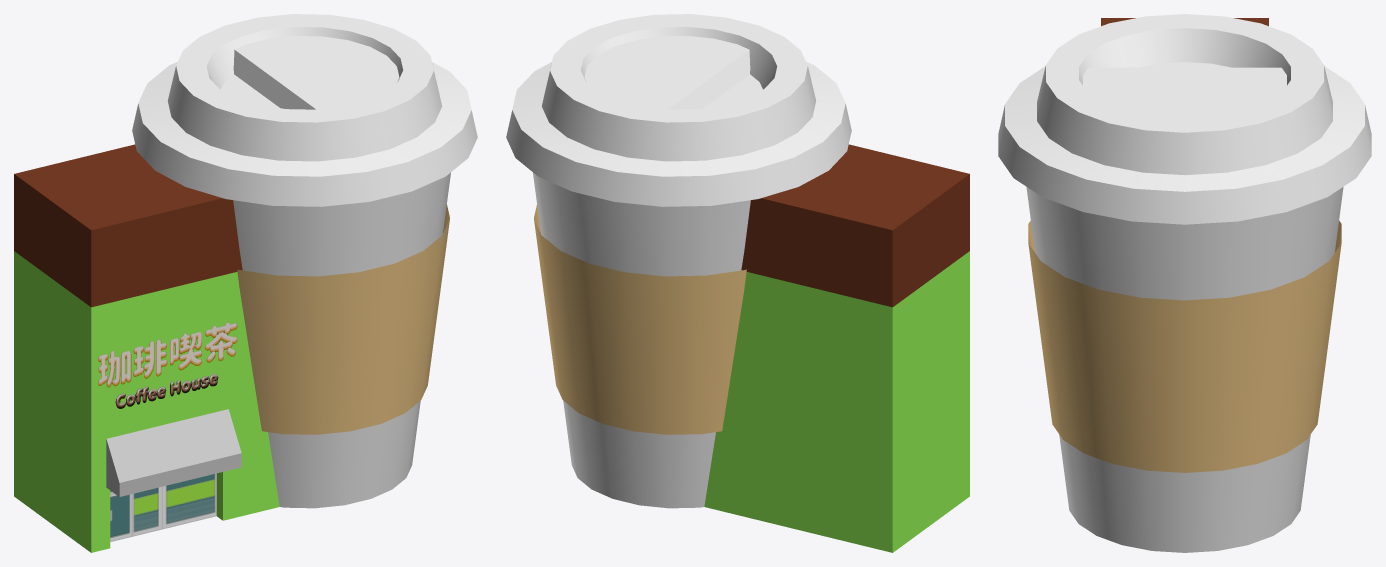
Rendered from Town_Bld_CoffeeShop_A.FBX.
3 views of the same model, side by side, from view 1: azimuth 30°, elevation 25°; view 2: azimuth 150°, elevation 25°; view 3: azimuth 270°, elevation 25° (orthographic). The views are drawn at different scales.
Visible parts, largest first — view 1: Town_Bld_CoffeeShop_A; view 2: Town_Bld_CoffeeShop_A; view 3: Town_Bld_CoffeeShop_A.
Boxes of the visible parts, box(x1,y1,x2,y2) form: Town_Bld_CoffeeShop_A: box(14, 14, 477, 552); Town_Bld_CoffeeShop_A: box(506, 14, 969, 552); Town_Bld_CoffeeShop_A: box(998, 14, 1371, 552).
Bounding box in the file's own units: 997 × 935 × 735.
